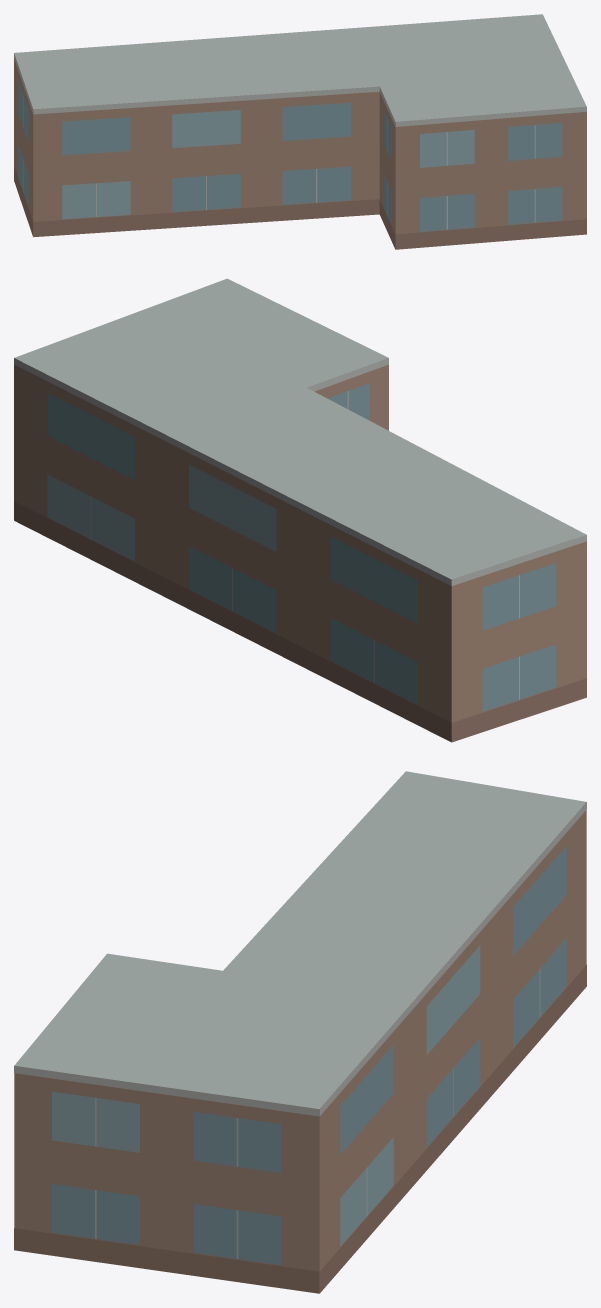
The model's file is survey-upis-32476192.glb.
3 renders of one model, top to bottom at view 1: azimuth 30°, elevation 25°; view 2: azimuth 150°, elevation 25°; view 3: azimuth 270°, elevation 25°, orthographic. The views are drawn at different scales.
Parts seen in each view (by area): view 1: survey-upis-32476192.tmp; view 2: survey-upis-32476192.tmp; view 3: survey-upis-32476192.tmp.
Part boxes in pixels (<box>): survey-upis-32476192.tmp: <box>14,14,586,249</box>; survey-upis-32476192.tmp: <box>14,278,586,742</box>; survey-upis-32476192.tmp: <box>14,771,586,1293</box>.
Bounding box in the file's own units: 23.97 × 6.1 × 17.17.
